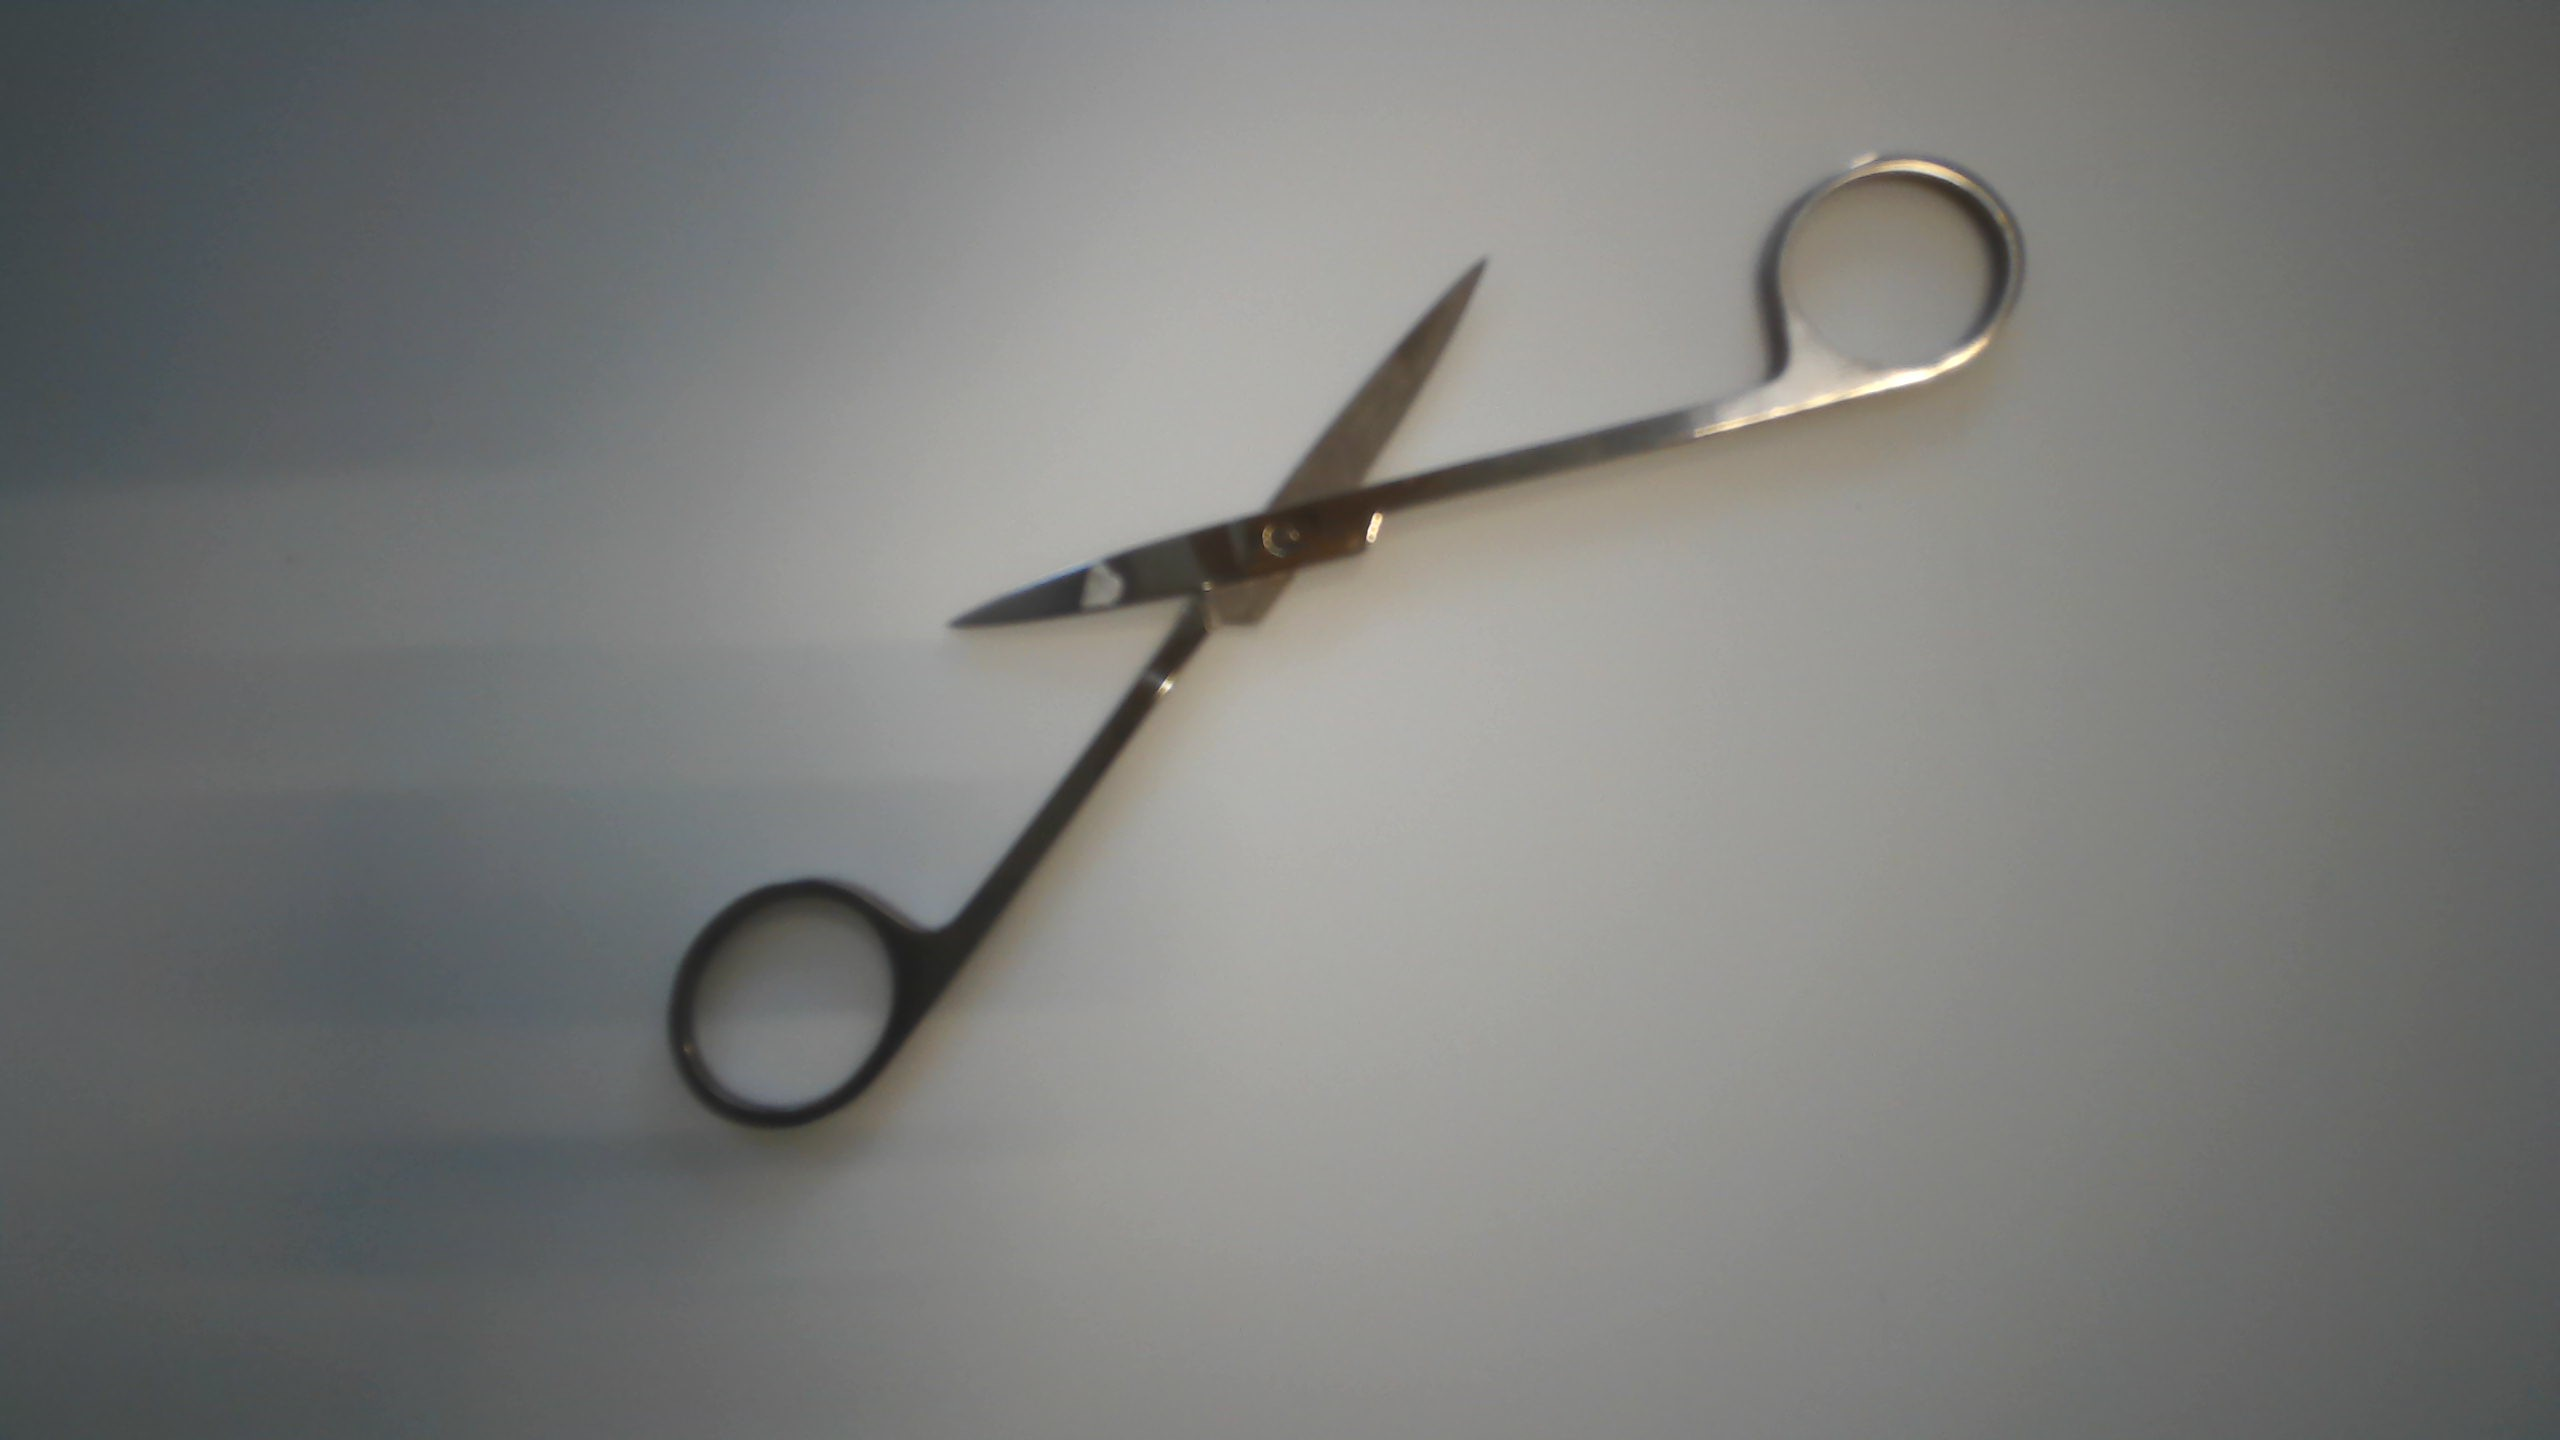Tissues: (1078, 552, 1125, 612)
